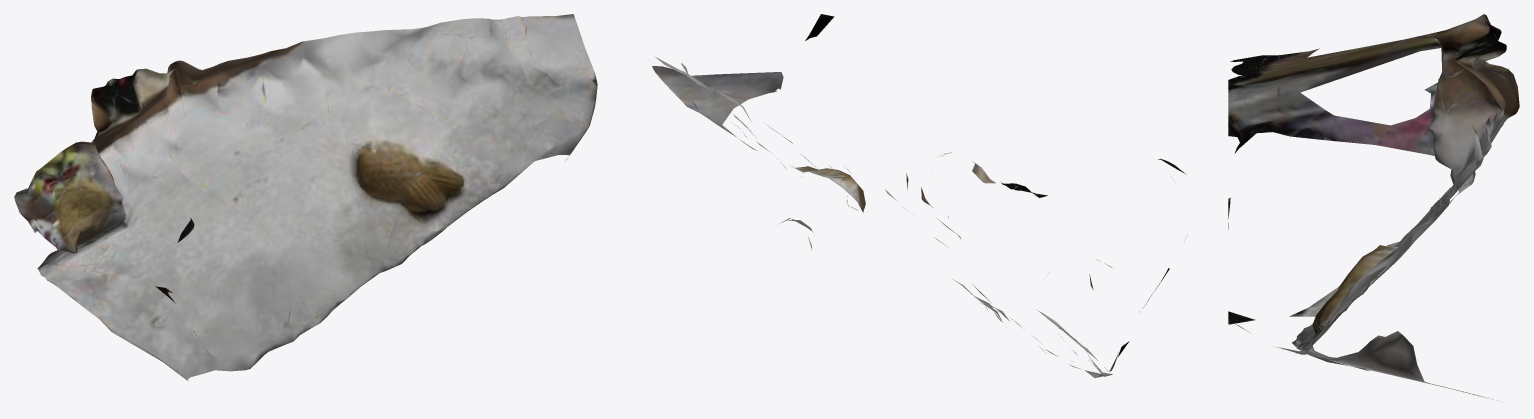
Rendered from hall.glb.
The picture shows the model from 3 angles, left to right: view 1: azimuth 30°, elevation 25°; view 2: azimuth 150°, elevation 25°; view 3: azimuth 270°, elevation 25°; orthographic projection. The views are drawn at different scales.
Bounding box in the file's own units: 1.06 × 0.4673 × 0.4277.
Materials: 1 (1 with a texture image).
